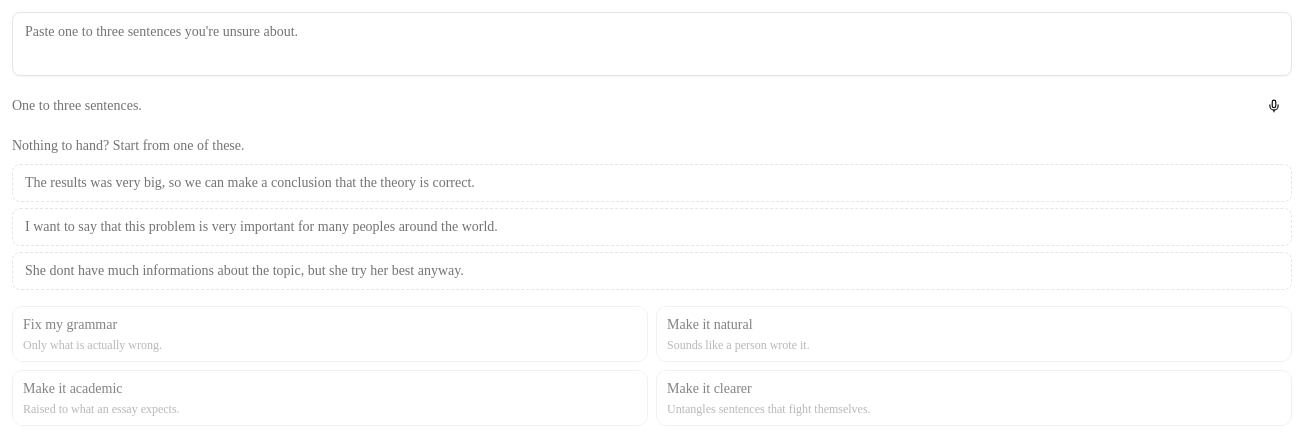
Test: ComposePanel › disables the transforms while there is nothing to work on
The width and height of the screenshot is (1304, 443).
Expected: the button with test id "option-academic" is disabled, [12,370,648,426]
Type "Something." into the text box with test id "compose" at coordinates (652, 44), box [12,12,1292,76]
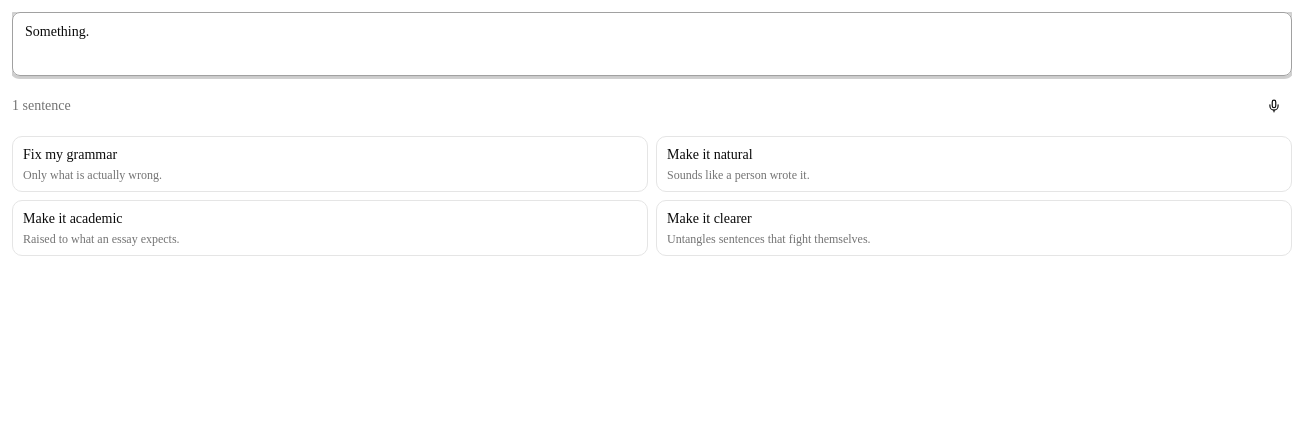
Expected: the button with test id "option-academic" is enabled, [12,200,648,256]
